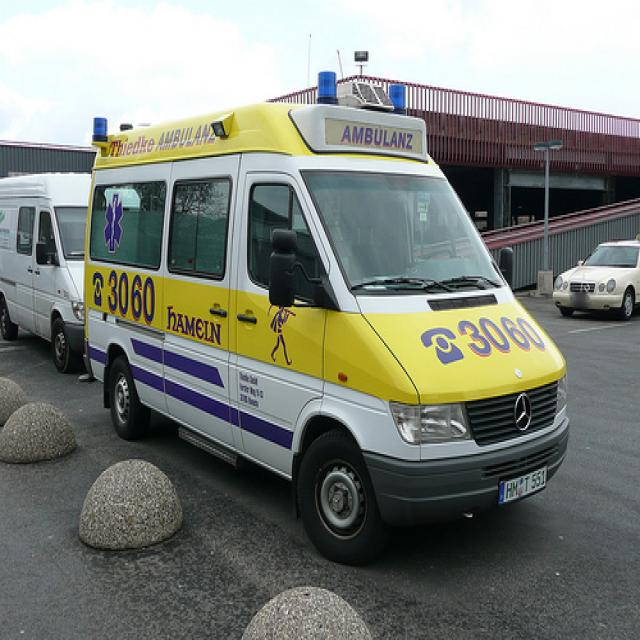emergency-vehicle: (82, 99, 567, 563)
